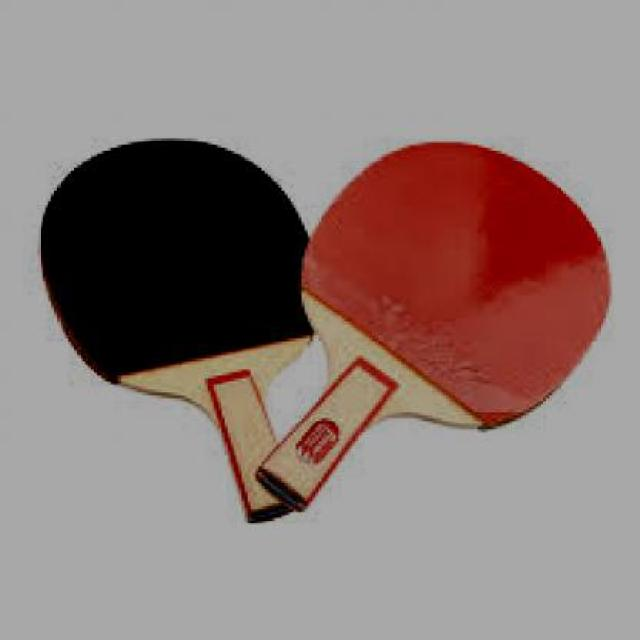table_tennis_racket: (295, 138, 619, 445), (34, 127, 328, 431)
